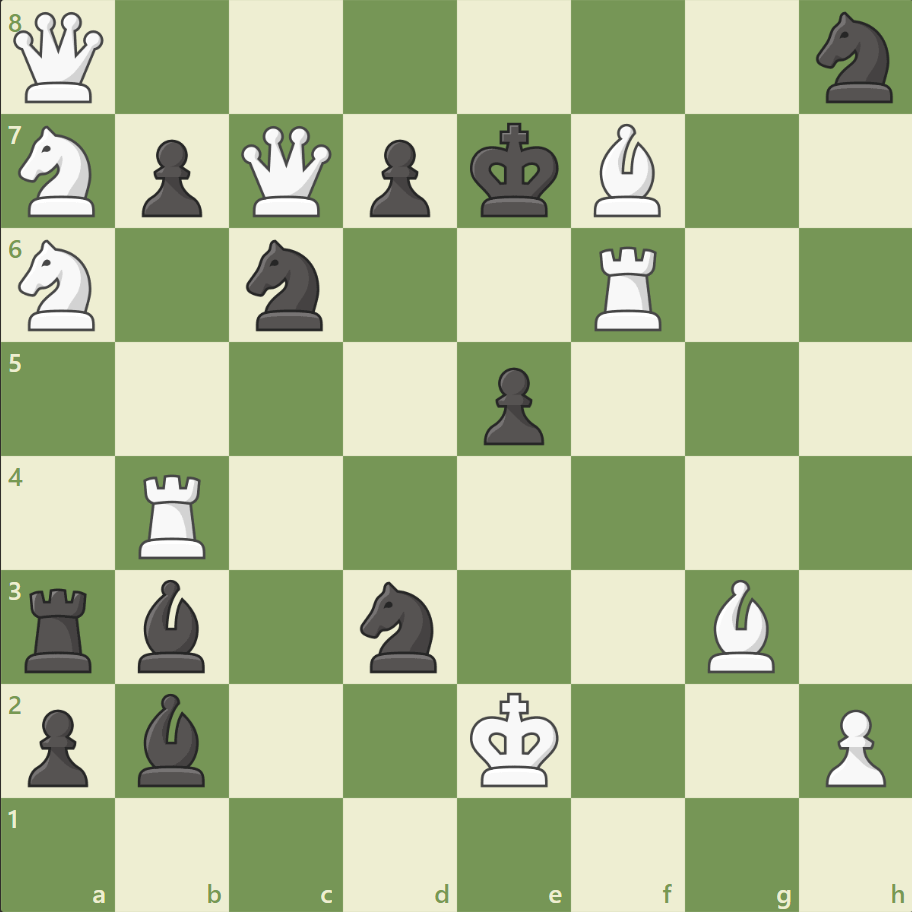B: (585, 120, 669, 222), (698, 574, 782, 676)
K: (465, 685, 565, 793)
N: (11, 234, 108, 337), (11, 121, 108, 223)
P: (815, 700, 889, 791)
Q: (237, 122, 336, 222), (10, 9, 109, 108)
R: (587, 239, 670, 336), (133, 466, 215, 563)
b: (131, 687, 215, 790), (131, 574, 215, 676)
k: (465, 117, 565, 225)
n: (351, 575, 449, 677), (806, 7, 903, 110), (238, 234, 335, 337)
p: (133, 132, 208, 223), (474, 359, 549, 450), (20, 700, 95, 791), (361, 132, 435, 223)
r: (19, 579, 102, 676)
